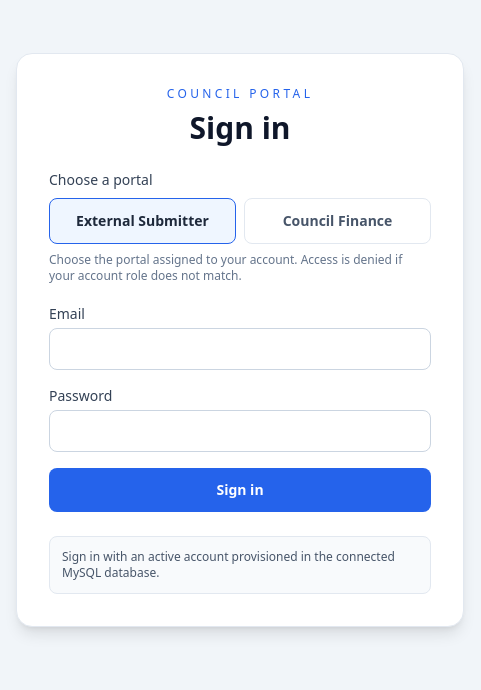
Test: authentication session flows › denies a council account when the external submitter portal is selected
Type "admin@example.org" into the field labelled "Email". click: (240, 349)
box: [49,328,431,370]
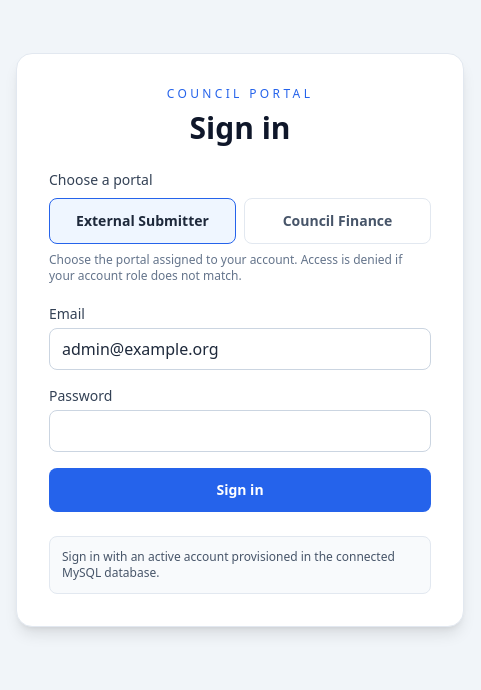
Type "valid-password" into the password field labelled "Password". click: (240, 431)
box: [49,410,431,452]
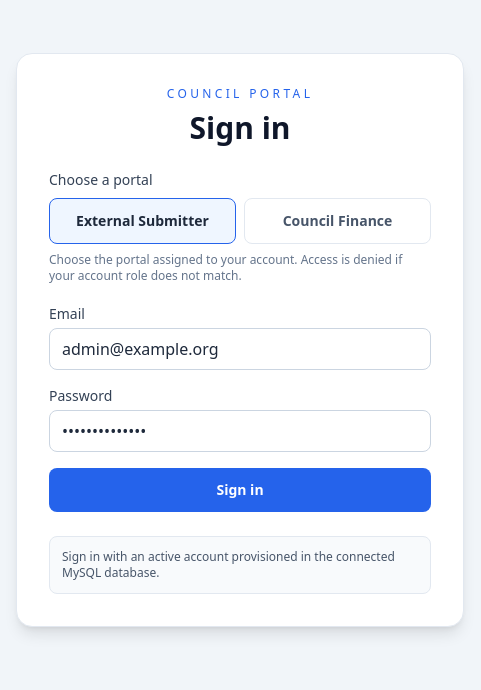
Click the button "Sign in". click: (240, 490)
box: [49,468,431,512]
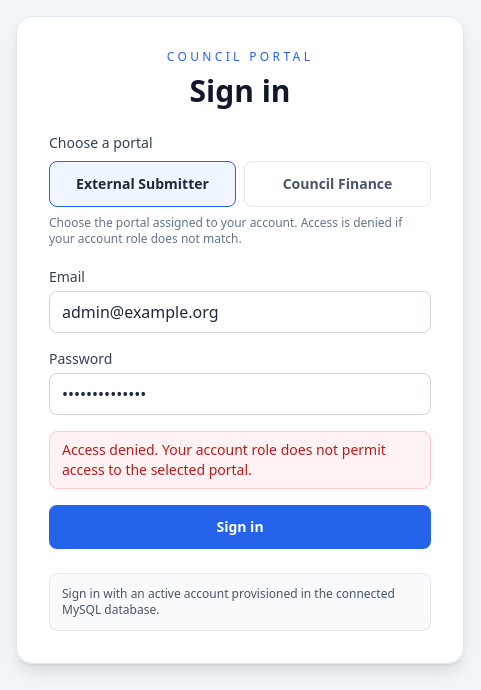
Expected: the message shows "Access denied", [62,440,386,479]
